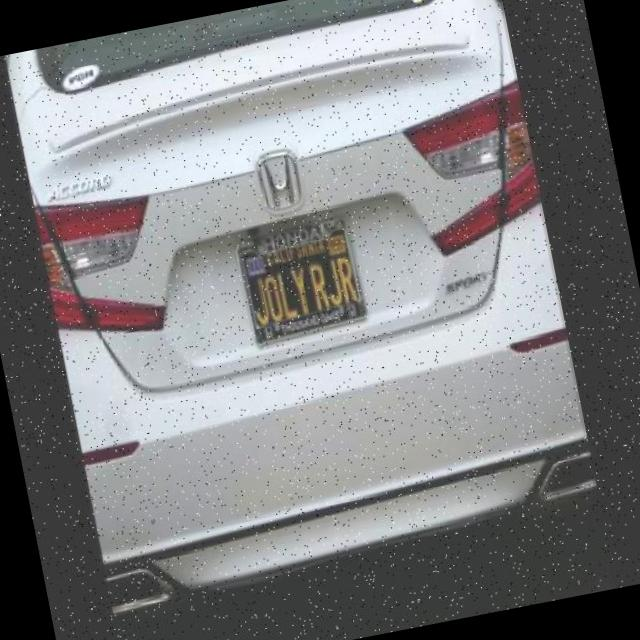LicensePlate: (232, 210, 367, 344)
